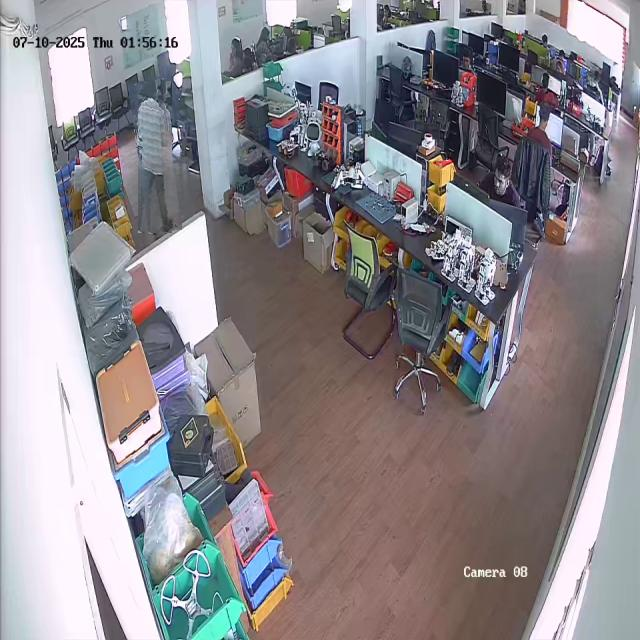person: (134, 80, 178, 234)
